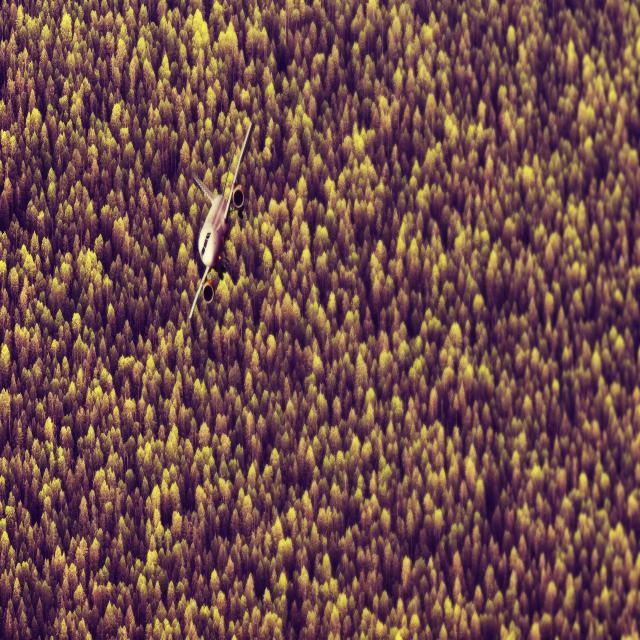airplane: (186, 120, 254, 320)
